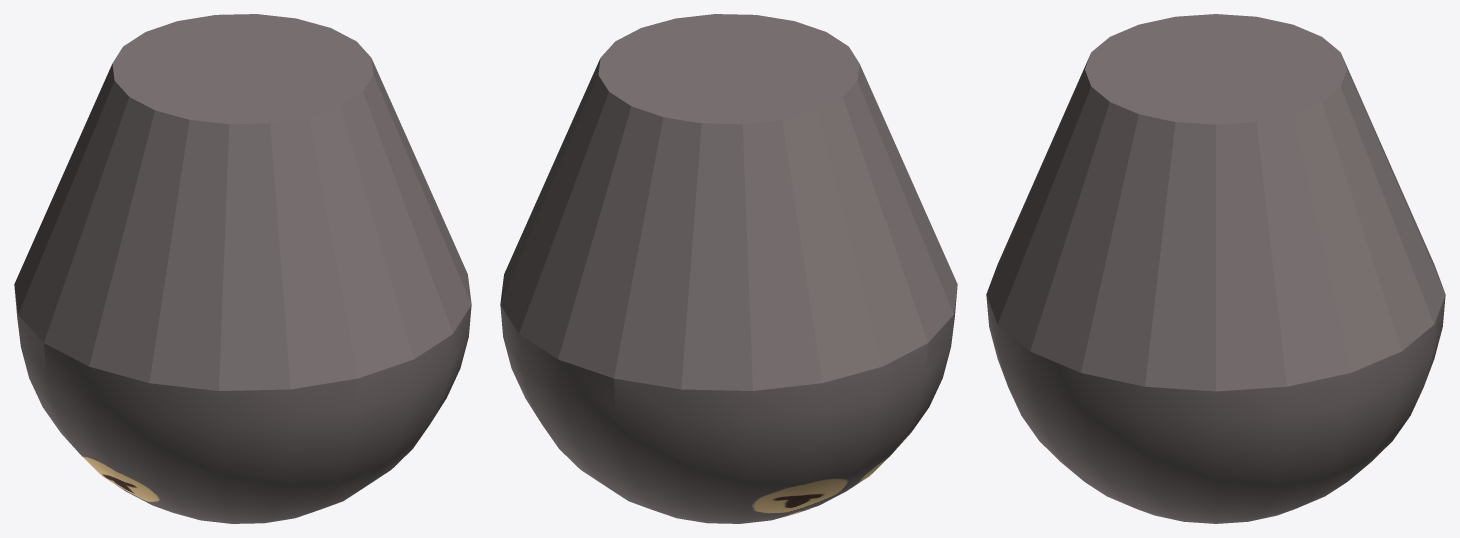
The model's file is body.obj.
3 renders of one model, left to right at view 1: azimuth 30°, elevation 25°; view 2: azimuth 150°, elevation 25°; view 3: azimuth 270°, elevation 25°, orthographic.
Visible parts, largest first — view 1: body; view 2: body; view 3: body.
Boxes of the visible parts, x1,y1,x2,y2 form: body: (14, 14, 471, 523); body: (500, 14, 957, 523); body: (986, 14, 1445, 523).
Bounding box in the file's own units: 2 × 2.08 × 2.
Materials: 1 (1 with a texture image).
